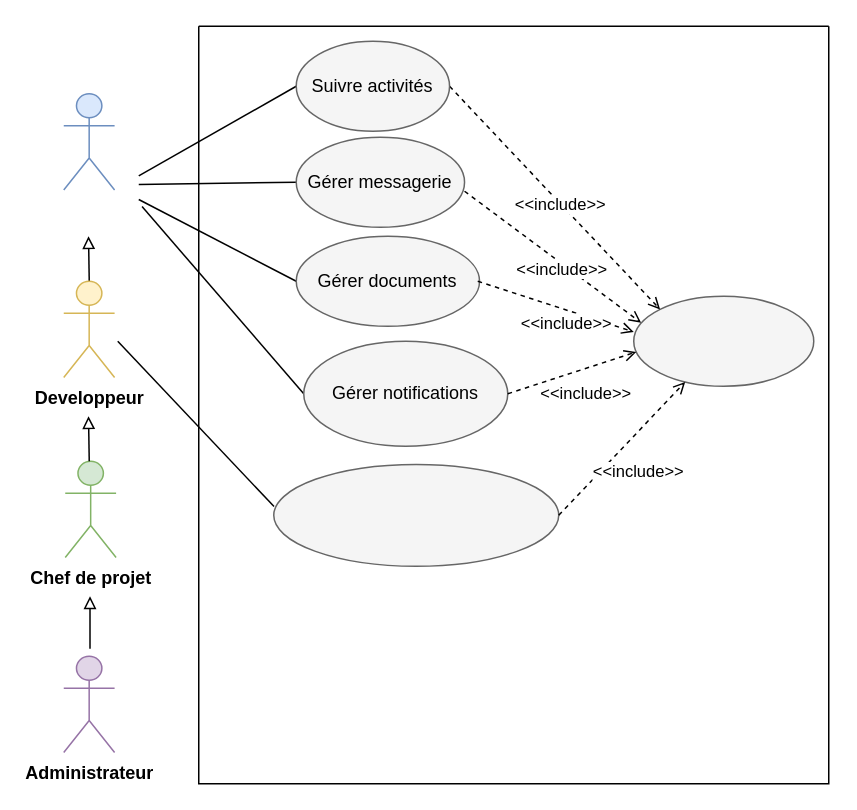
This 857x810 diagram has some shape labels left out. Each missing label, with the centre of its shape:
"Gérer base de connaissances" goes at (x=415, y=514).
"S'authentifier" goes at (x=723, y=340).
"Utilisateur" goes at (x=88, y=141).
